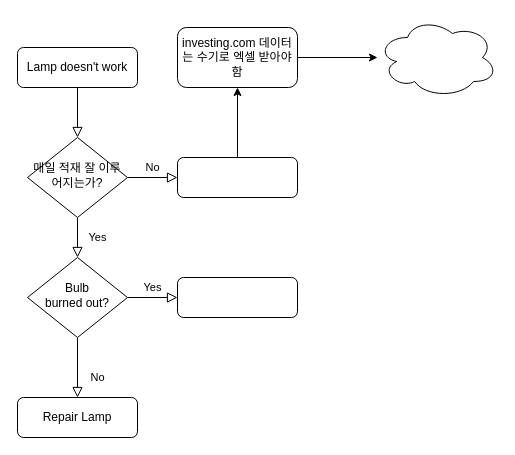
Image size: 515x455. Some labels were removed from this diagram. The shapes that lost their labels are listed below. From the top down, each one's centre as x and y in pixels, then its label:
At [437,57]: "금은동백금,채권".
At [237,177]: "intoDB inital code로 재적재".
At [237,297]: "Replace Bulb".
